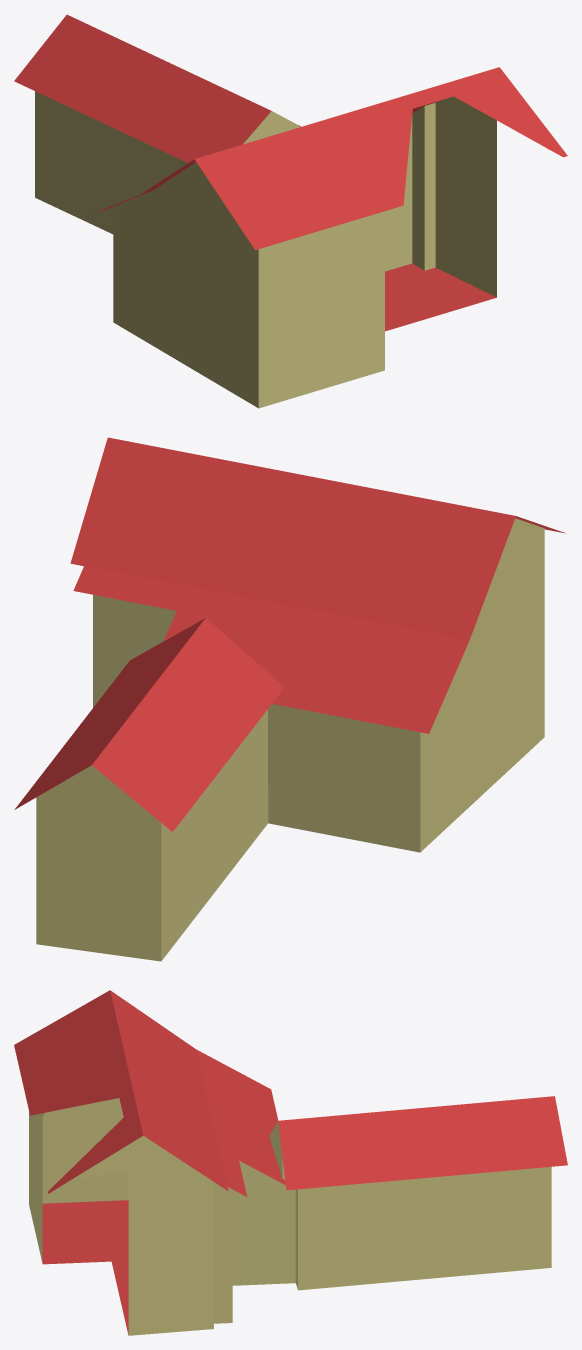
The picture shows the model from 3 angles, top to bottom: view 1: azimuth 30°, elevation 25°; view 2: azimuth 150°, elevation 25°; view 3: azimuth 270°, elevation 25°; orthographic projection. The views are drawn at different scales.
Size of the model in its own units: 20.7 by 30.36 by 12.39.
